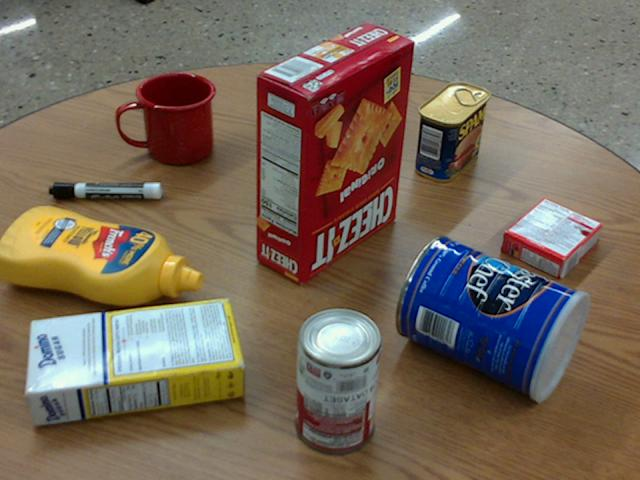cracker_box: (254, 21, 414, 283)
gelatin_box: (500, 196, 601, 277)
large_marker: (50, 182, 161, 198)
master_chef_can: (397, 234, 591, 400)
mug: (117, 73, 215, 165)
mustard_bottle: (0, 204, 202, 306)
potted_meat_can: (416, 81, 489, 182)
sugar_box: (25, 297, 242, 423)
tomato_soup_can: (297, 306, 383, 453)
tuna_fish_can: (291, 74, 357, 147)
